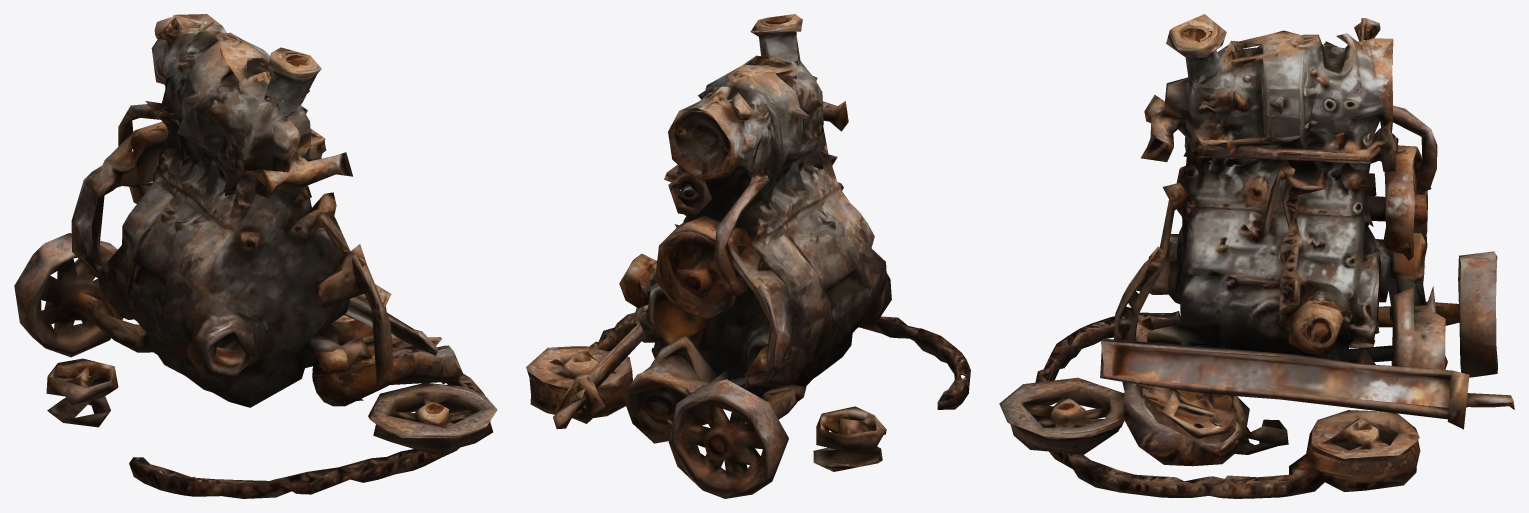
The model's file is qr_scrap2.glb.
3 views of the same model, side by side, from view 1: azimuth 30°, elevation 25°; view 2: azimuth 150°, elevation 25°; view 3: azimuth 270°, elevation 25° (orthographic). The views are drawn at different scales.
Visible parts, largest first — view 1: tripo_node_4159bfb4-232f-4177-b85e-010b47dd63b7; view 2: tripo_node_4159bfb4-232f-4177-b85e-010b47dd63b7; view 3: tripo_node_4159bfb4-232f-4177-b85e-010b47dd63b7.
Part boxes in pixels (box(x1,y1,x2,y2)): tripo_node_4159bfb4-232f-4177-b85e-010b47dd63b7: box(14, 14, 497, 498); tripo_node_4159bfb4-232f-4177-b85e-010b47dd63b7: box(526, 14, 970, 498); tripo_node_4159bfb4-232f-4177-b85e-010b47dd63b7: box(999, 14, 1514, 498).
Size of the model in its own units: 0.8057 by 0.8395 by 1.
Materials: 1 (1 with a texture image).
